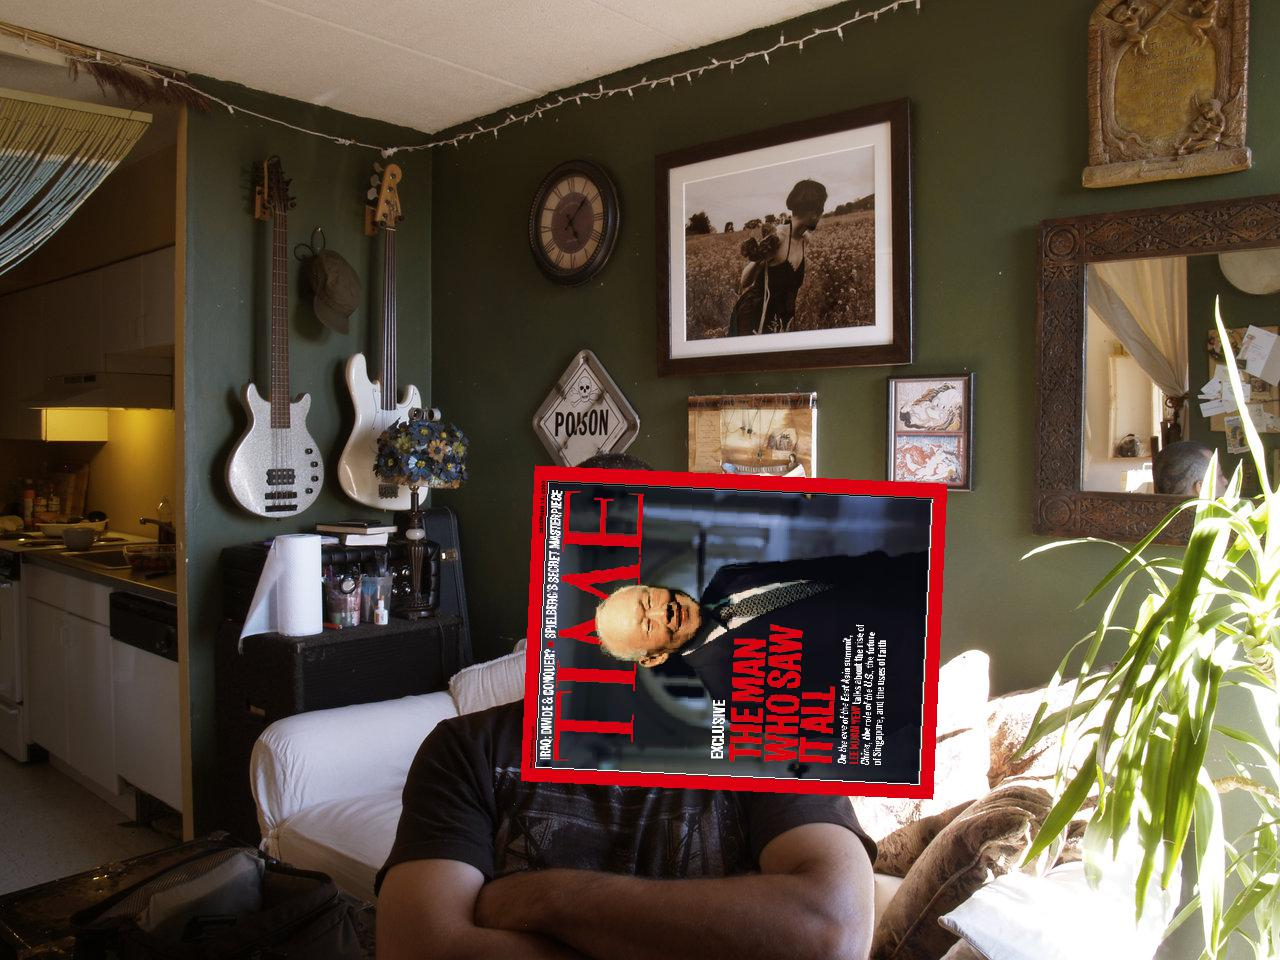times: (515, 471, 951, 798)
